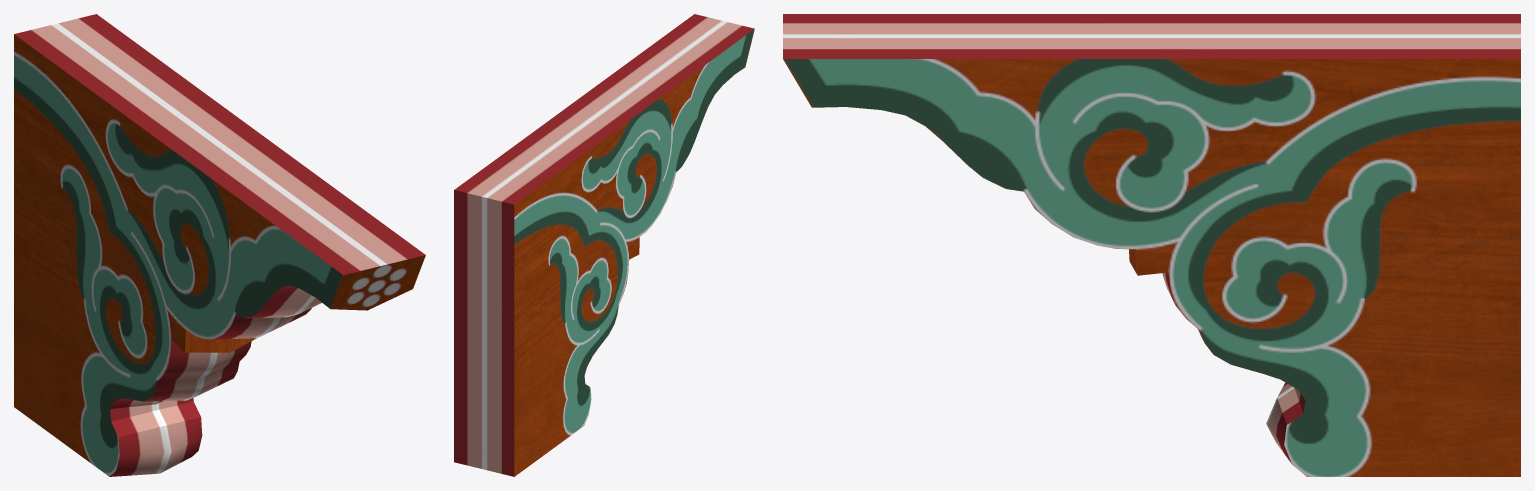
File: SM_Boaji06H.fbx
The picture shows the model from 3 angles, left to right: view 1: azimuth 30°, elevation 25°; view 2: azimuth 150°, elevation 25°; view 3: azimuth 270°, elevation 25°; orthographic projection. The views are drawn at different scales.
Visible parts, largest first — view 1: SM_Boaji06H; view 2: SM_Boaji06H; view 3: SM_Boaji06H.
Boxes of the visible parts, box(x1,y1,x2,y2) form: SM_Boaji06H: box(14, 14, 425, 476); SM_Boaji06H: box(454, 14, 754, 476); SM_Boaji06H: box(783, 14, 1520, 476).
Bounding box in the file's own units: 7.62 × 52.67 × 32.9.
